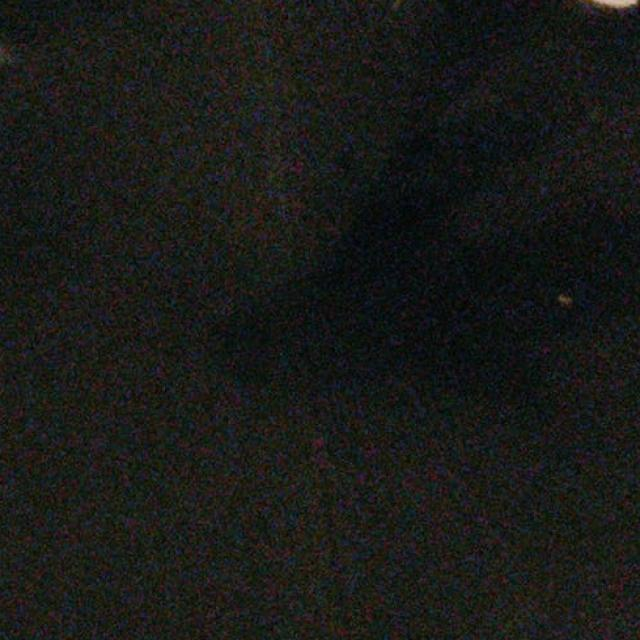fish: (0, 1, 639, 640)
